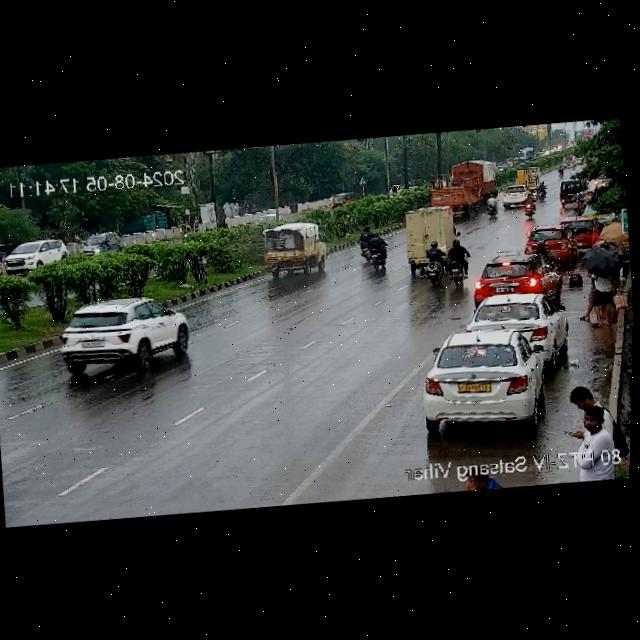car: (416, 326, 556, 433), (48, 288, 188, 377), (470, 288, 567, 356), (254, 220, 324, 278), (469, 252, 550, 300), (2, 237, 69, 278), (521, 223, 573, 256), (70, 229, 122, 256), (499, 183, 530, 208), (570, 216, 590, 248), (327, 190, 355, 210), (559, 180, 584, 201)
motorcycle: (352, 224, 396, 270), (440, 237, 475, 287), (422, 237, 449, 285), (520, 189, 536, 219), (484, 193, 500, 220), (529, 238, 550, 252), (94, 238, 110, 254), (537, 181, 547, 201), (557, 164, 563, 176), (391, 186, 396, 195)
person: (560, 388, 617, 467), (587, 263, 613, 326), (590, 221, 608, 244)
truck: (398, 193, 477, 295), (429, 156, 500, 206), (515, 166, 543, 192)
